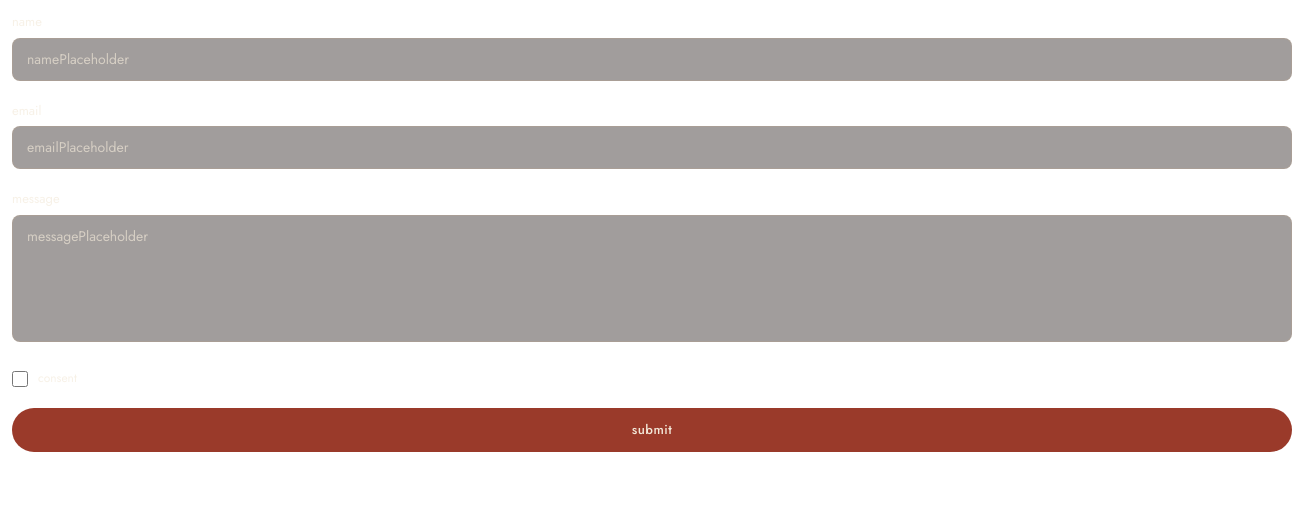
ContactForm › shows generic error message on failed submit without leaking backend details
Type "John" into the field with placeholder "namePlaceholder".
click(652, 59); type("John")  # box [12,38,1292,80]
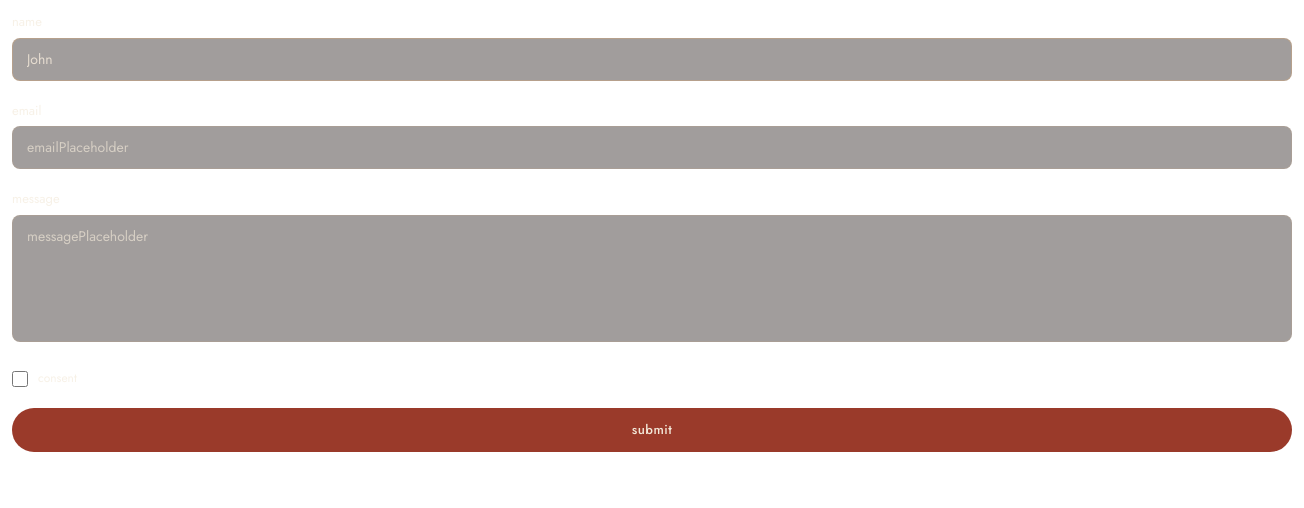
Type "john@test.com" into the field with placeholder "emailPlaceholder".
click(652, 148); type("john@test.com")  # box [12,126,1292,169]
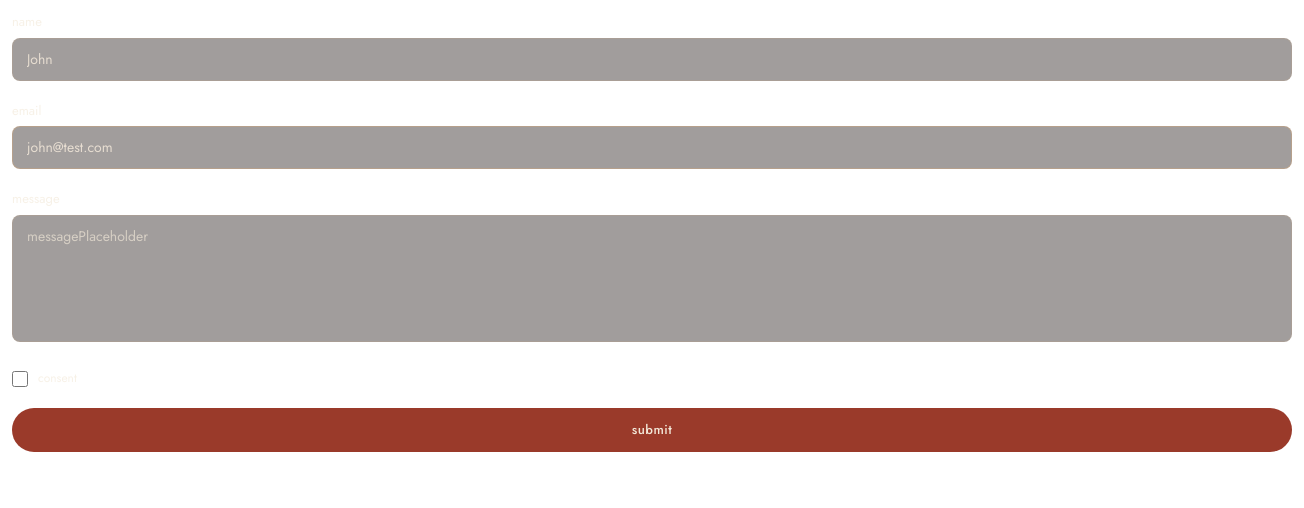
Type "Hello" into the text box with placeholder "messagePlaceholder".
click(652, 278); type("Hello")  # box [12,214,1292,342]
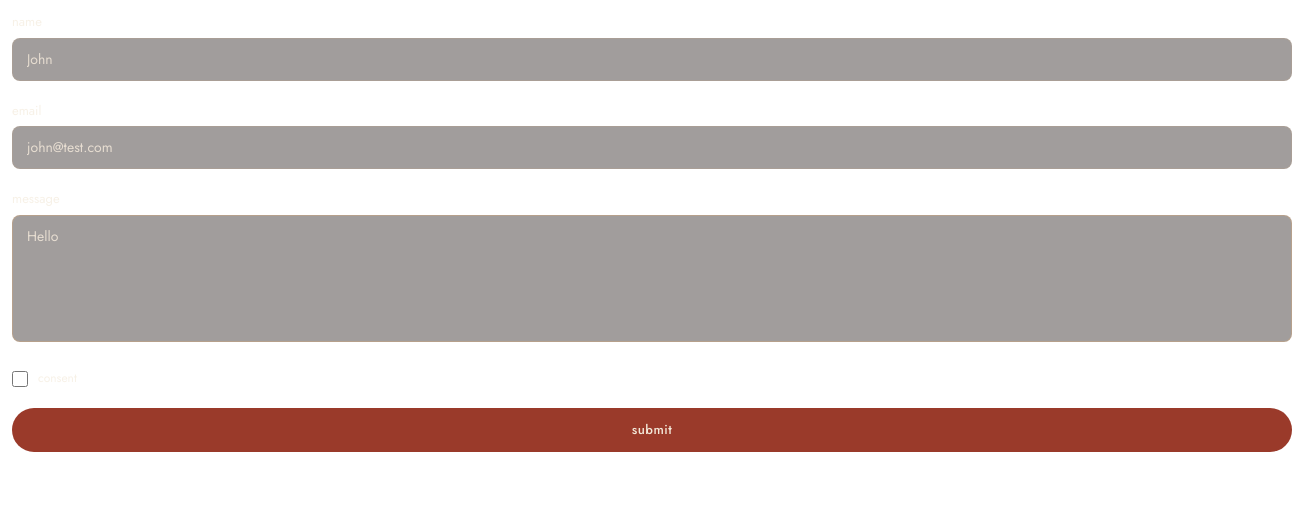
Click the checkbox.
click(20, 378)  # box [12,370,28,386]
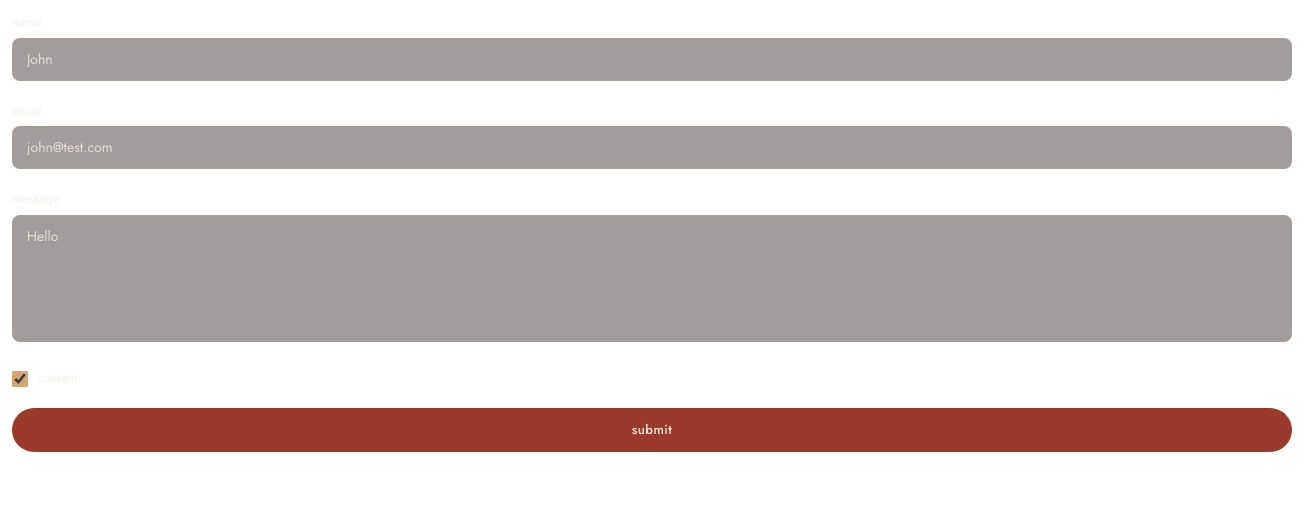
Click the button "submit".
click(652, 430)  # box [12,408,1292,452]
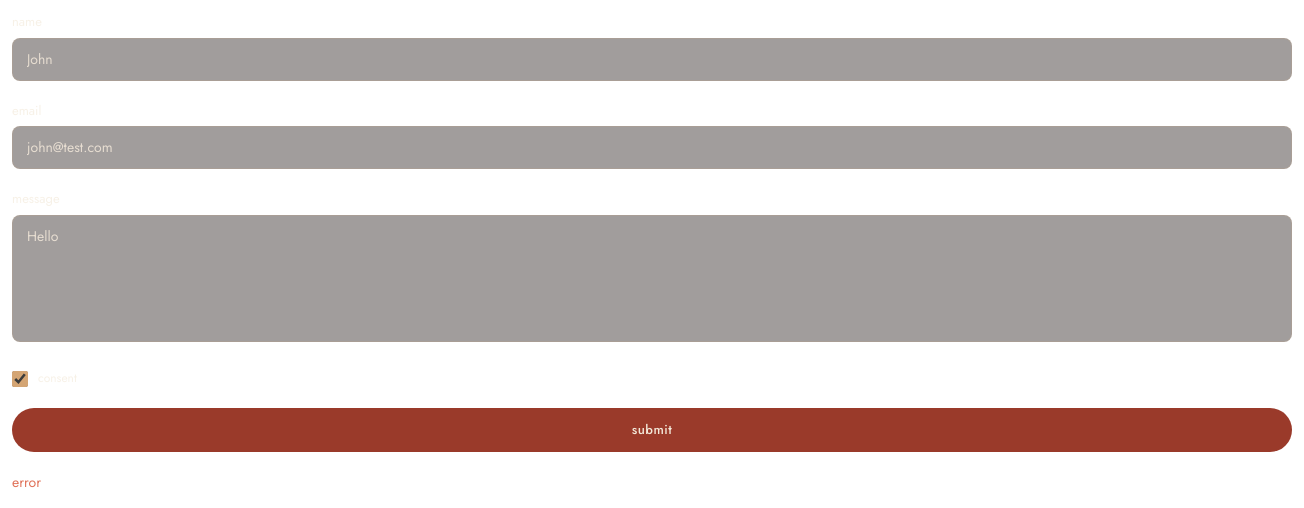
Check: the message reads "error", box [12,472,41,492]
